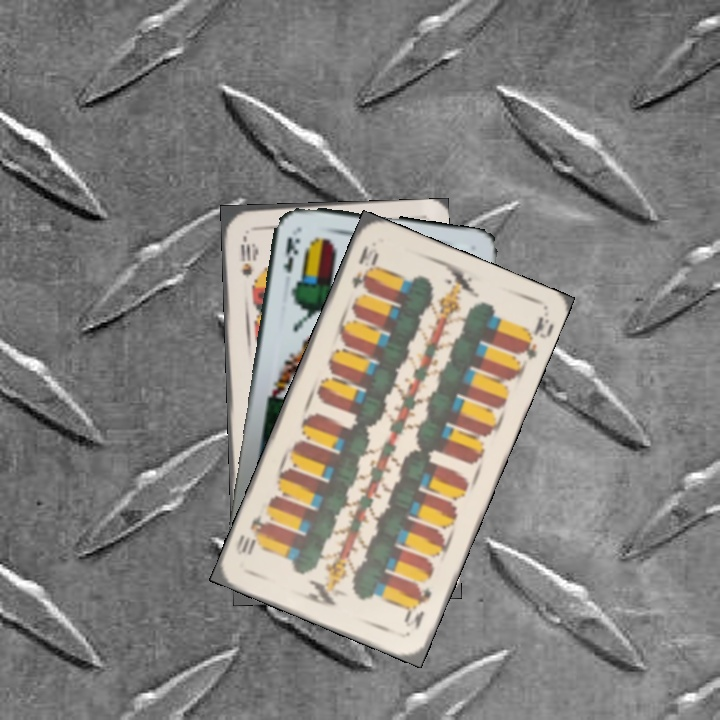E10: (347, 240, 382, 292), (400, 582, 435, 632)
EK: (279, 233, 303, 276)
S10: (236, 231, 256, 280)
